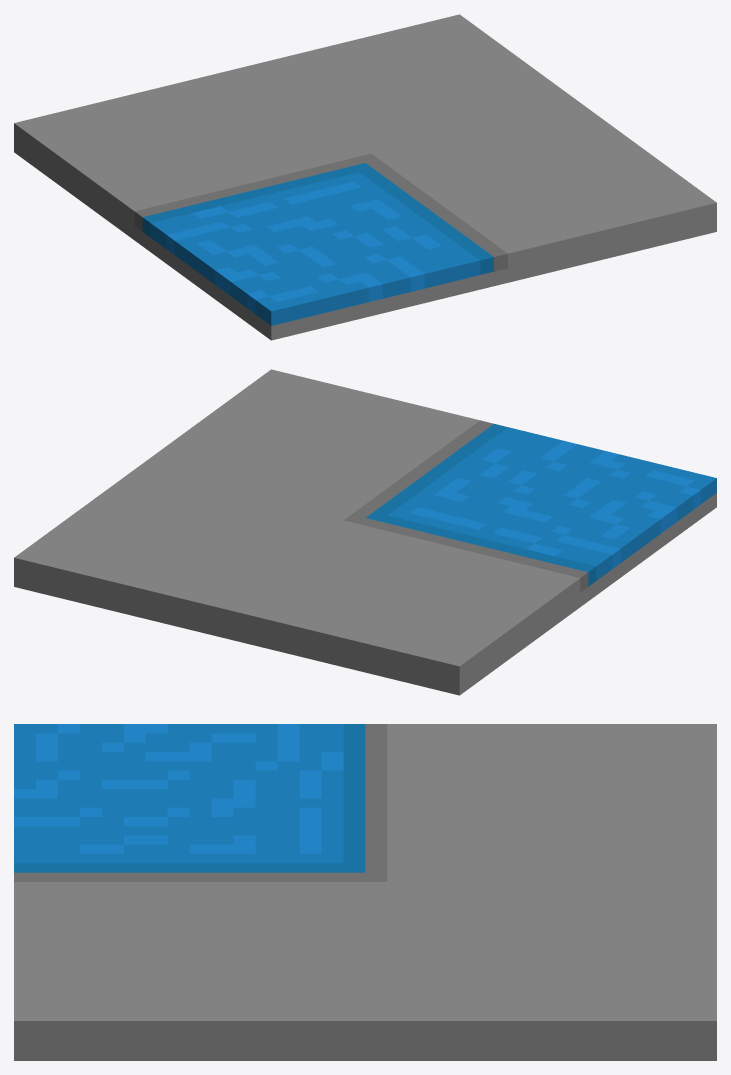
Rendered from city-water-edgy-edge-inner-3.gltf.
3 views of the same model, one above another, from view 1: azimuth 30°, elevation 25°; view 2: azimuth 150°, elevation 25°; view 3: azimuth 270°, elevation 25° (orthographic). The views are drawn at different scales.
Parts seen in each view (by area): view 1: city-water-edgy-edge-inner-3; view 2: city-water-edgy-edge-inner-3; view 3: city-water-edgy-edge-inner-3.
Part boxes in pixels (left/top/right/bottom): city-water-edgy-edge-inner-3: left=14, top=14, right=716, bottom=340; city-water-edgy-edge-inner-3: left=14, top=369, right=716, bottom=695; city-water-edgy-edge-inner-3: left=14, top=724, right=716, bottom=1060.
Bounding box in the file's own units: 3.2 × 0.2 × 3.2.
Materials: 1 (1 with a texture image).
